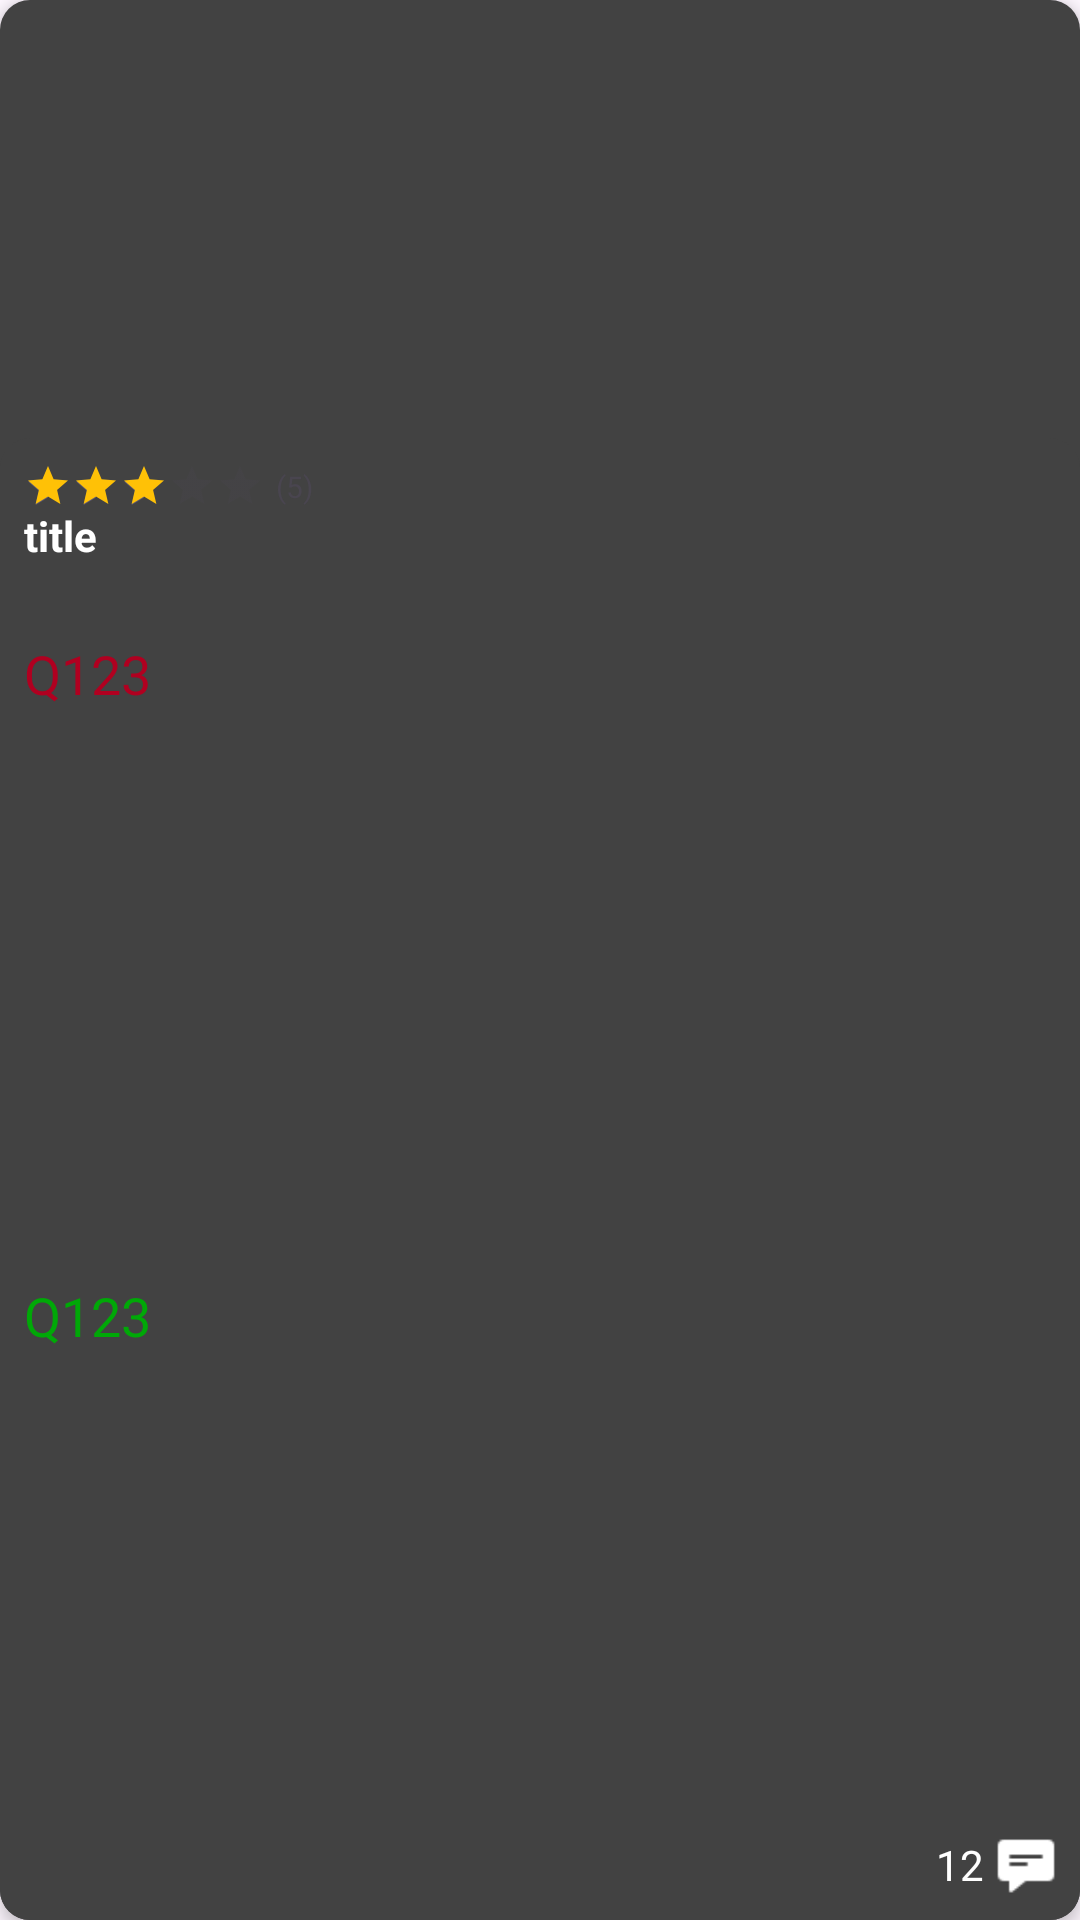

Screen size 1080*1920. Icon name, then its box in pixels as box(x1, y1, x2, y2):
comentario: box(997, 1839, 1055, 1893)
